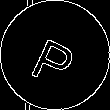P_NE: (27, 24, 83, 86)
